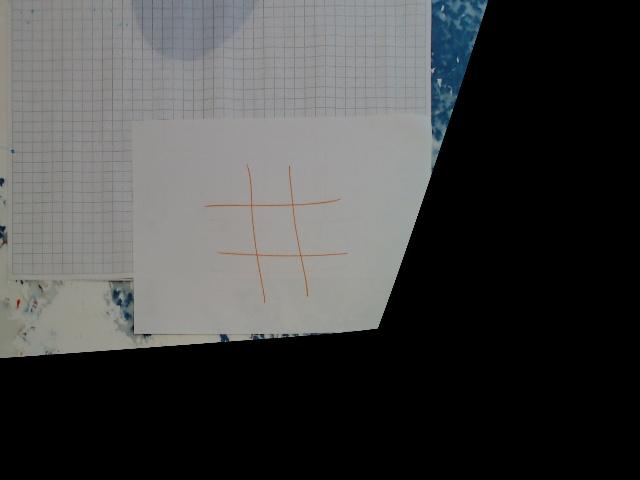grid: (206, 159, 351, 304)
